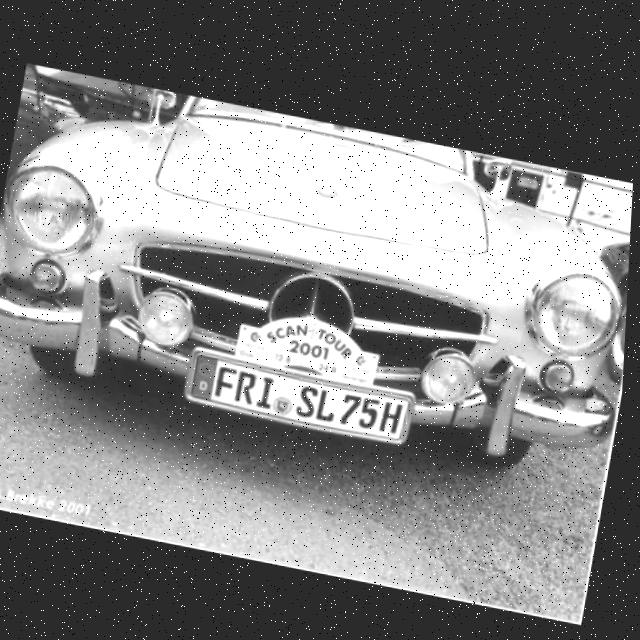license-plates: (185, 349, 414, 445)
